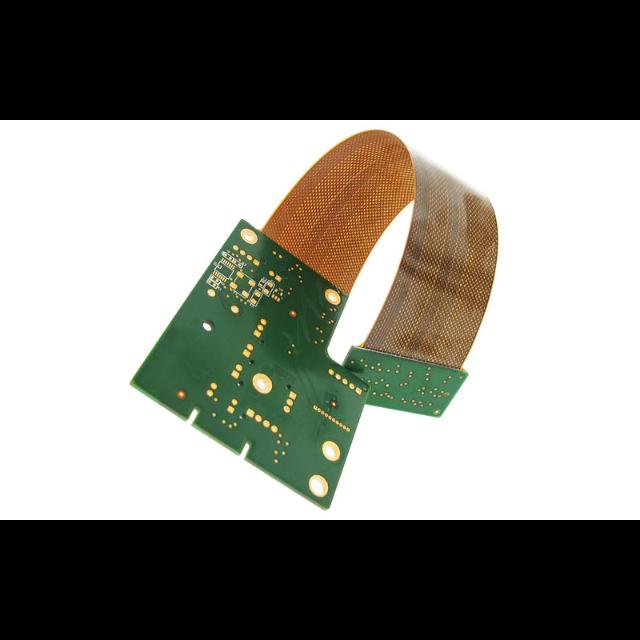PCB: (131, 130, 498, 508)
